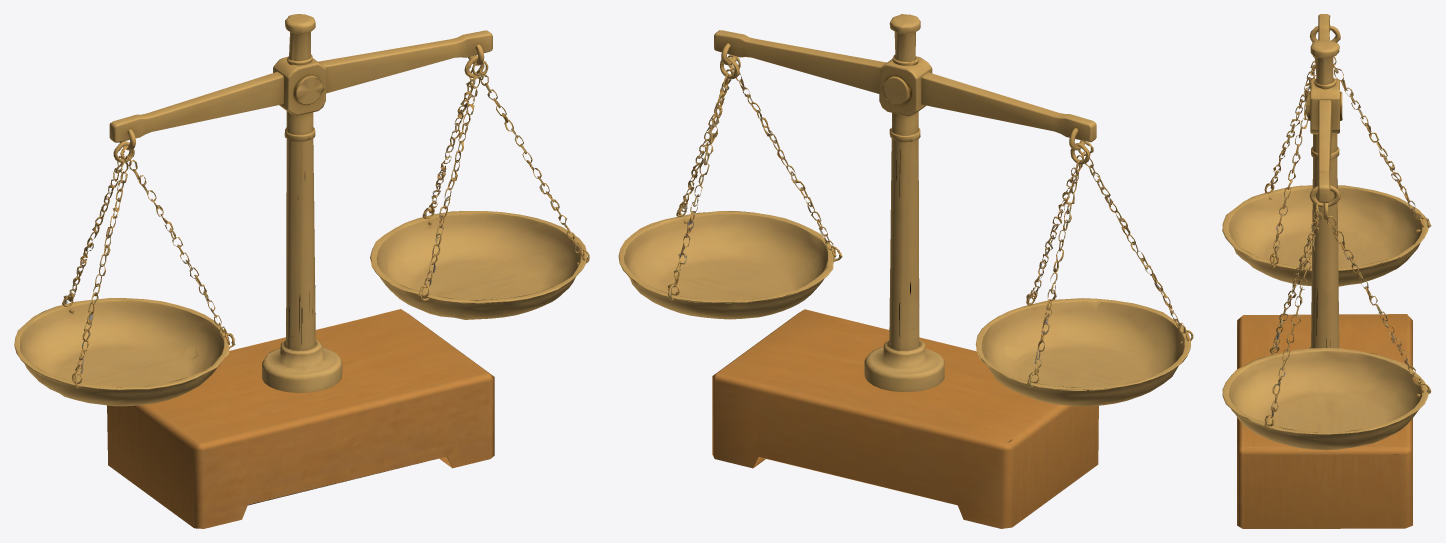
The model's file is BrassBalanceScale.glb.
The picture shows the model from 3 angles, left to right: view 1: azimuth 30°, elevation 25°; view 2: azimuth 150°, elevation 25°; view 3: azimuth 270°, elevation 25°; orthographic projection. The views are drawn at different scales.
Visible parts, largest first — view 1: geometry_0; view 2: geometry_0; view 3: geometry_0.
Boxes of the visible parts, x1,y1,x2,y2 form: geometry_0: (14, 14, 589, 528); geometry_0: (618, 14, 1193, 528); geometry_0: (1222, 14, 1431, 528).
Bounding box in the file's own units: 0.9453 × 0.7334 × 0.3345.
1 material, 1 textured.
